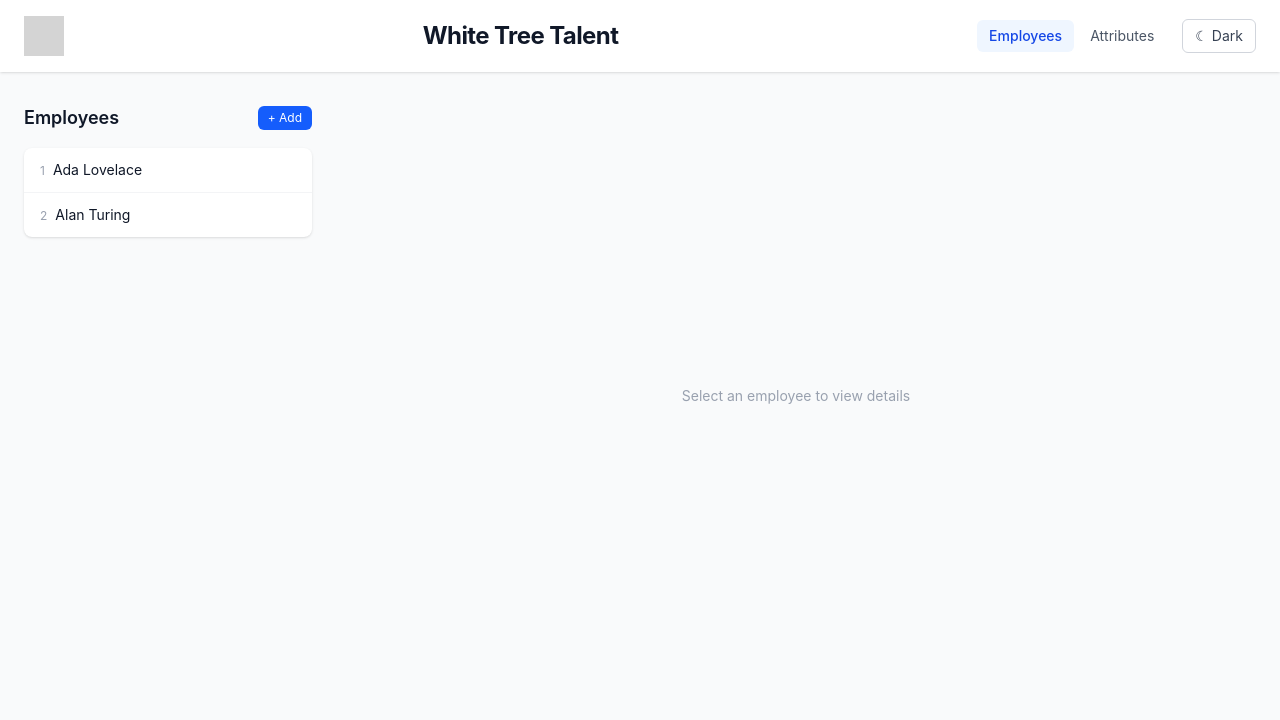
Test case: App › renders skills as tags
The width and height of the screenshot is (1280, 720).
Click the button "1Ada Lovelace": (113, 170) [24,148,312,192]
(page scrolled)
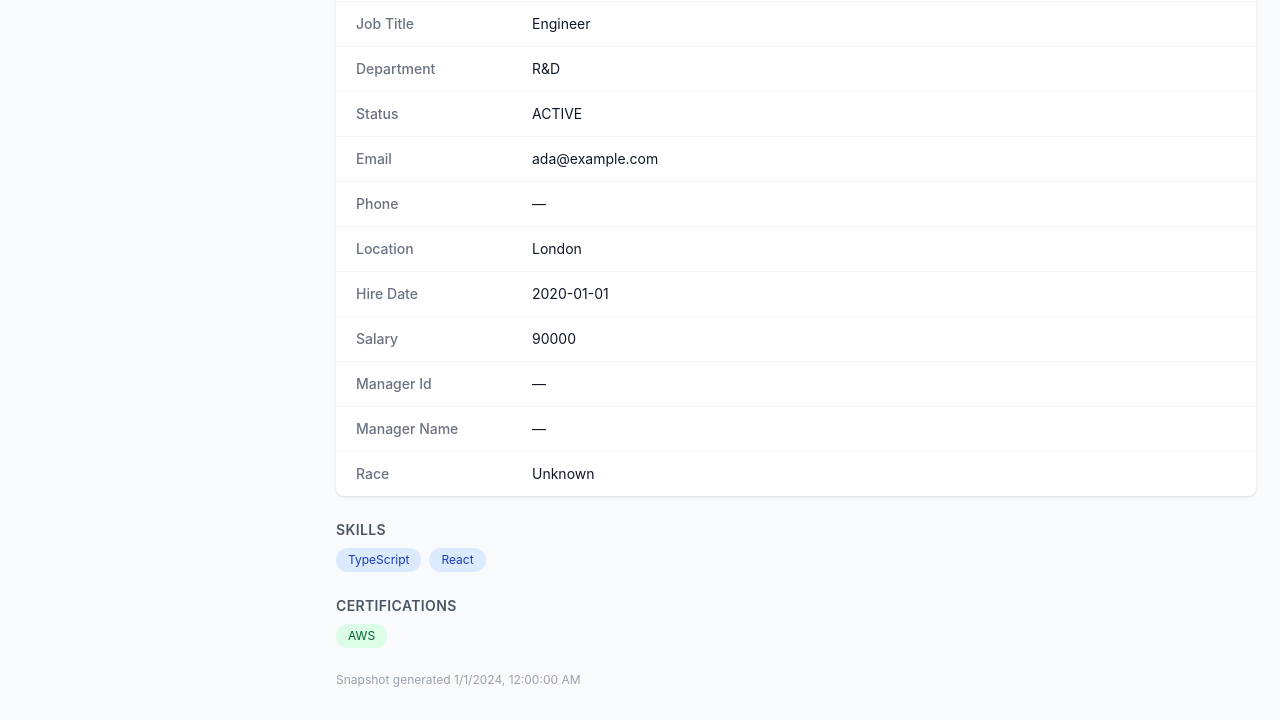
Expected: the text "TypeScript" is shown, [336,548,422,572]
Expected: the text "React" is shown, [430,548,486,572]
